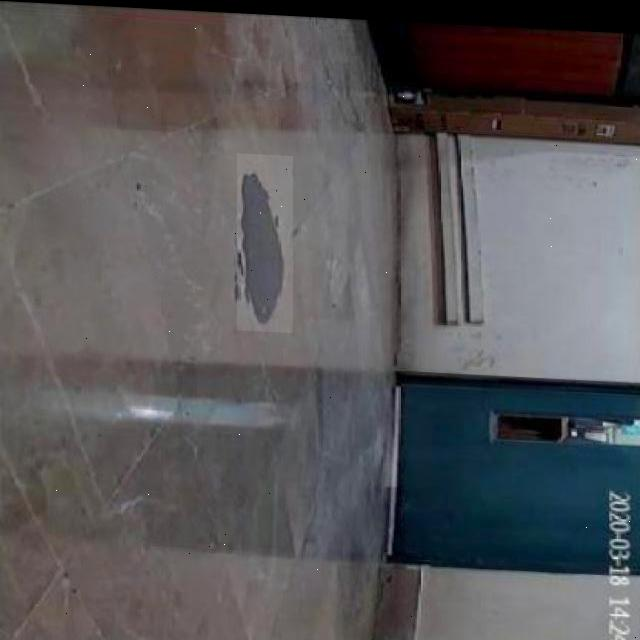spillage: (238, 151, 293, 327)
